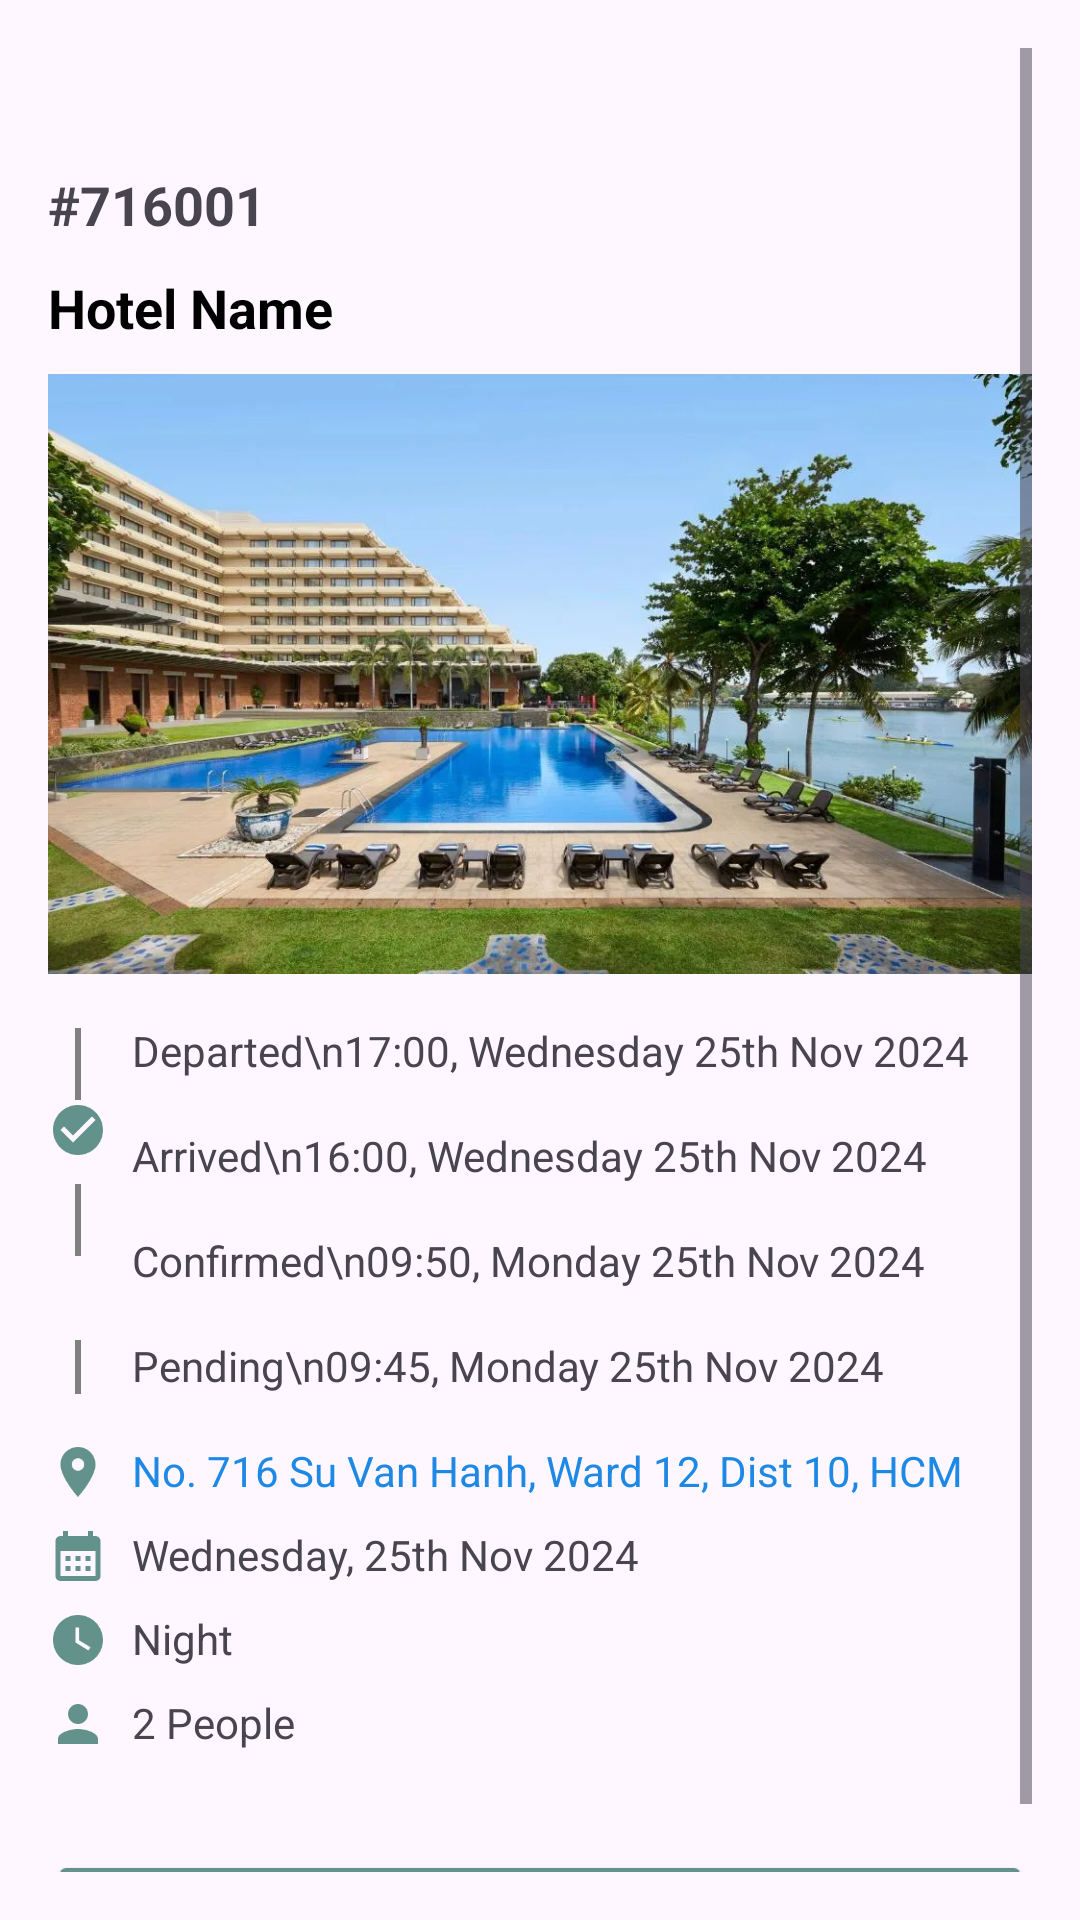

Icon click points for this 1080×1920 phone screenshot, format (x=x, y=y):
calendar: (x=78, y=1556)
check: (x=78, y=1130)
location: (x=78, y=1472)
person: (x=78, y=1724)
time: (x=78, y=1640)
